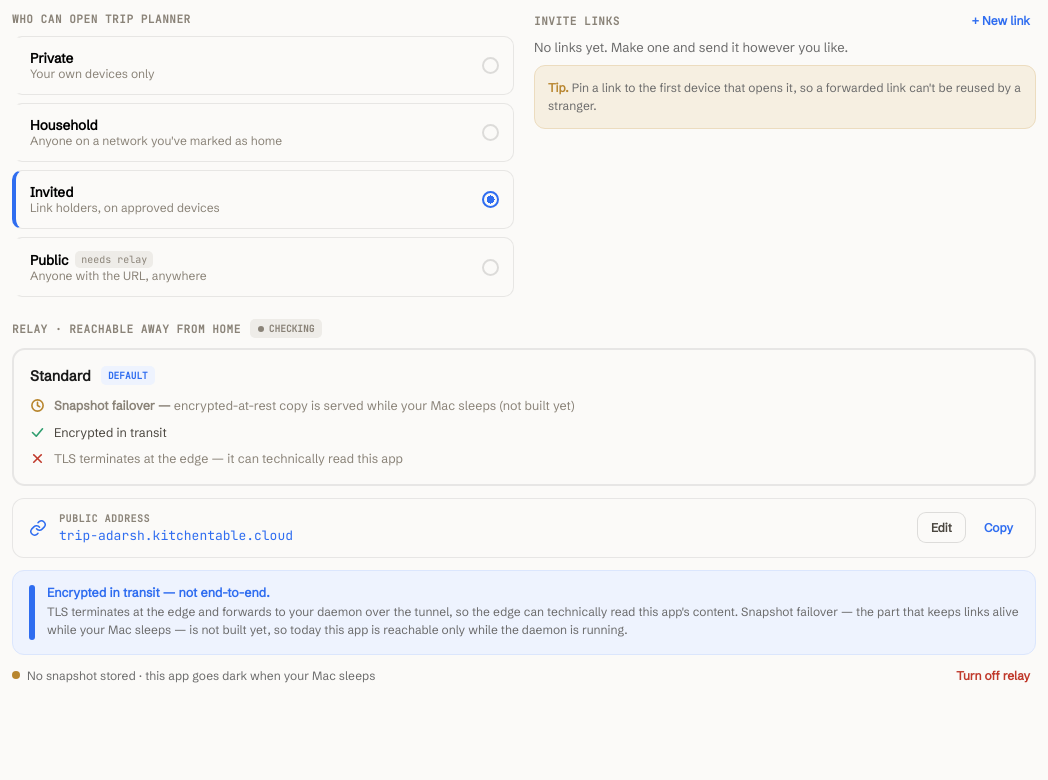
Test: Sharing: the public address › shows the daemon's refusal rather than a generic failure
Click the button "Edit" at (941, 528), box [917,512,966,543]
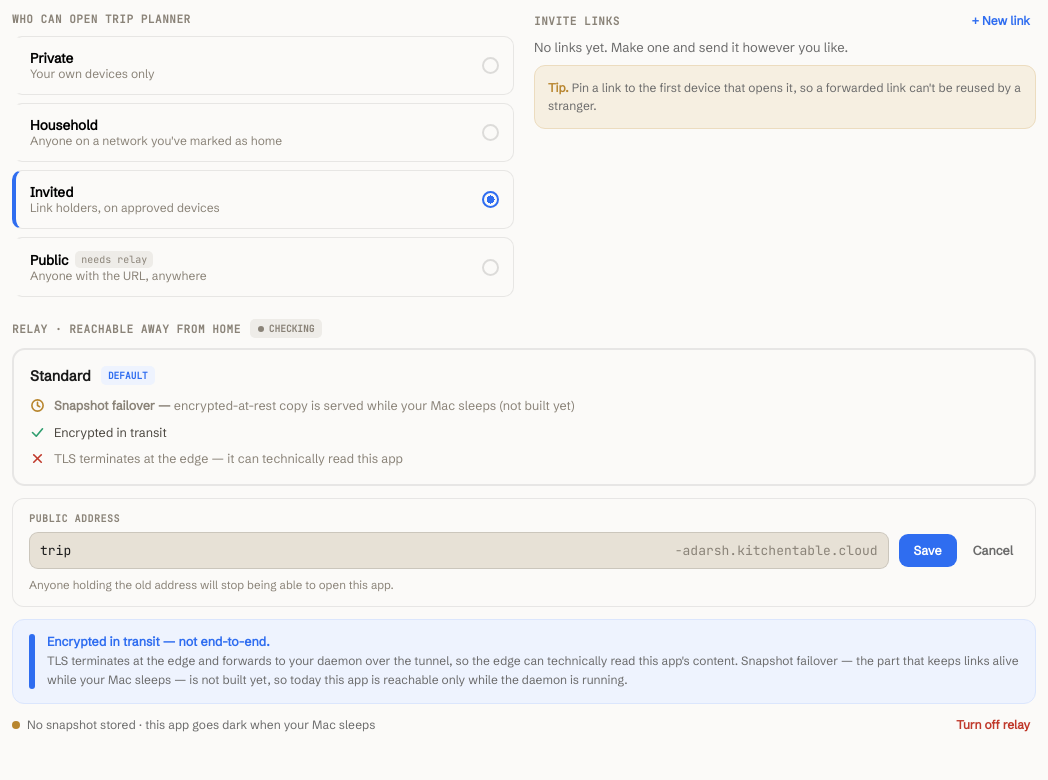
Replace the text in the field labelled "PUBLIC ADDRESS" with "chores" at (352, 550), box [30,532,675,568]
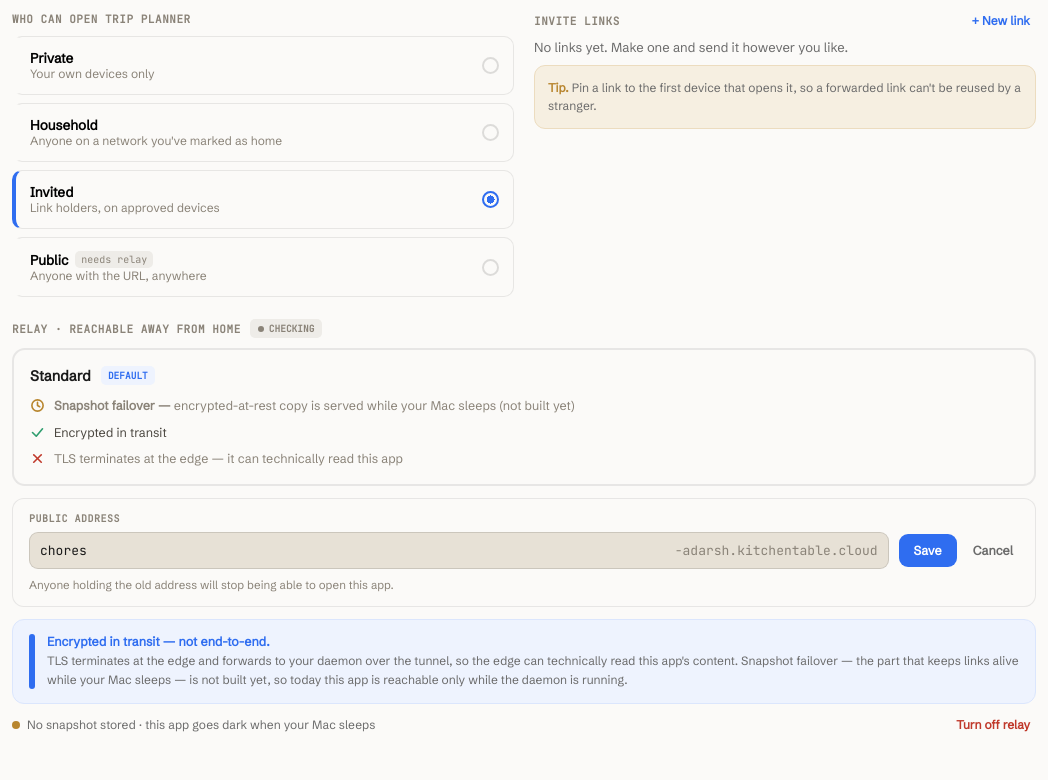
Click the button "Save" at (928, 550), box [899,534,957,566]
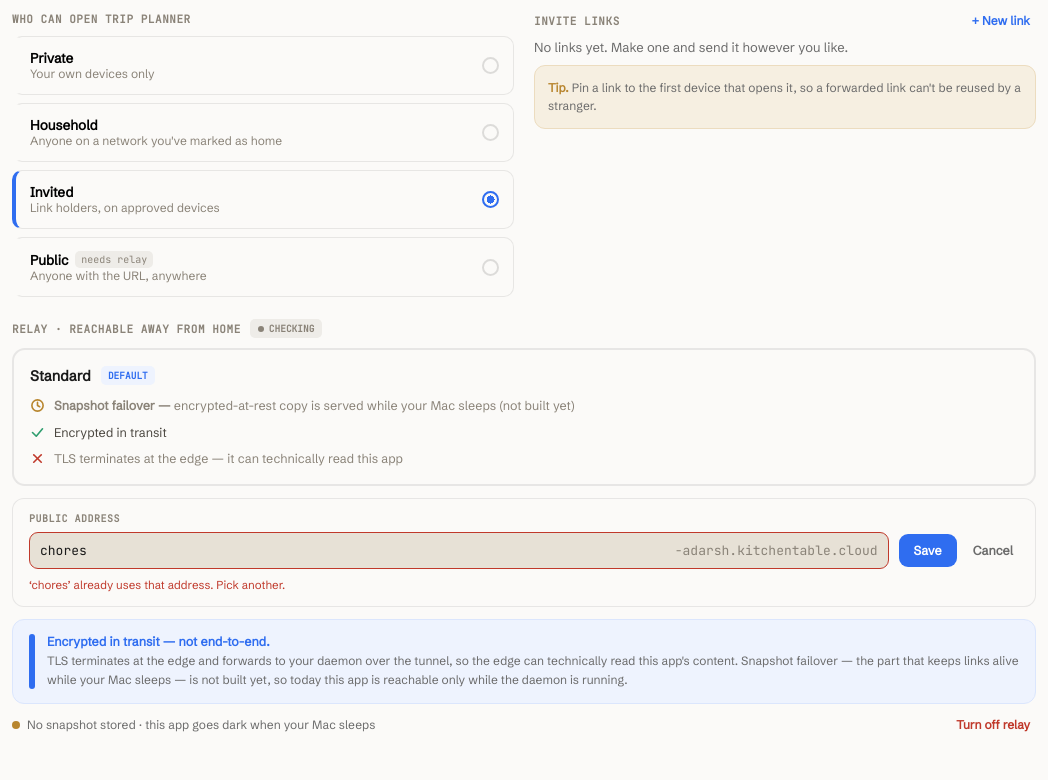
Expected: the message shows "already uses that address", [29,578,285,592]
